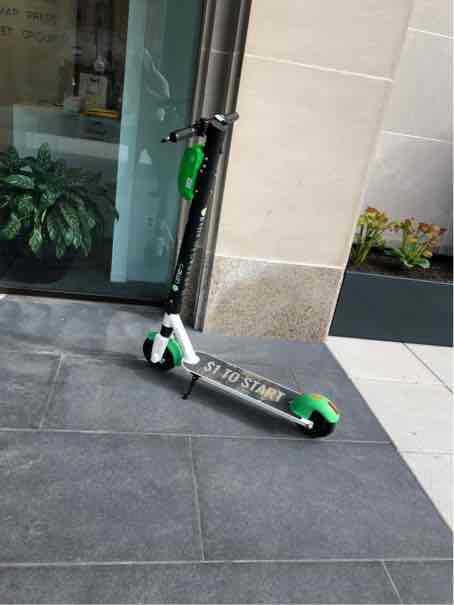scooter: (136, 102, 349, 445)
